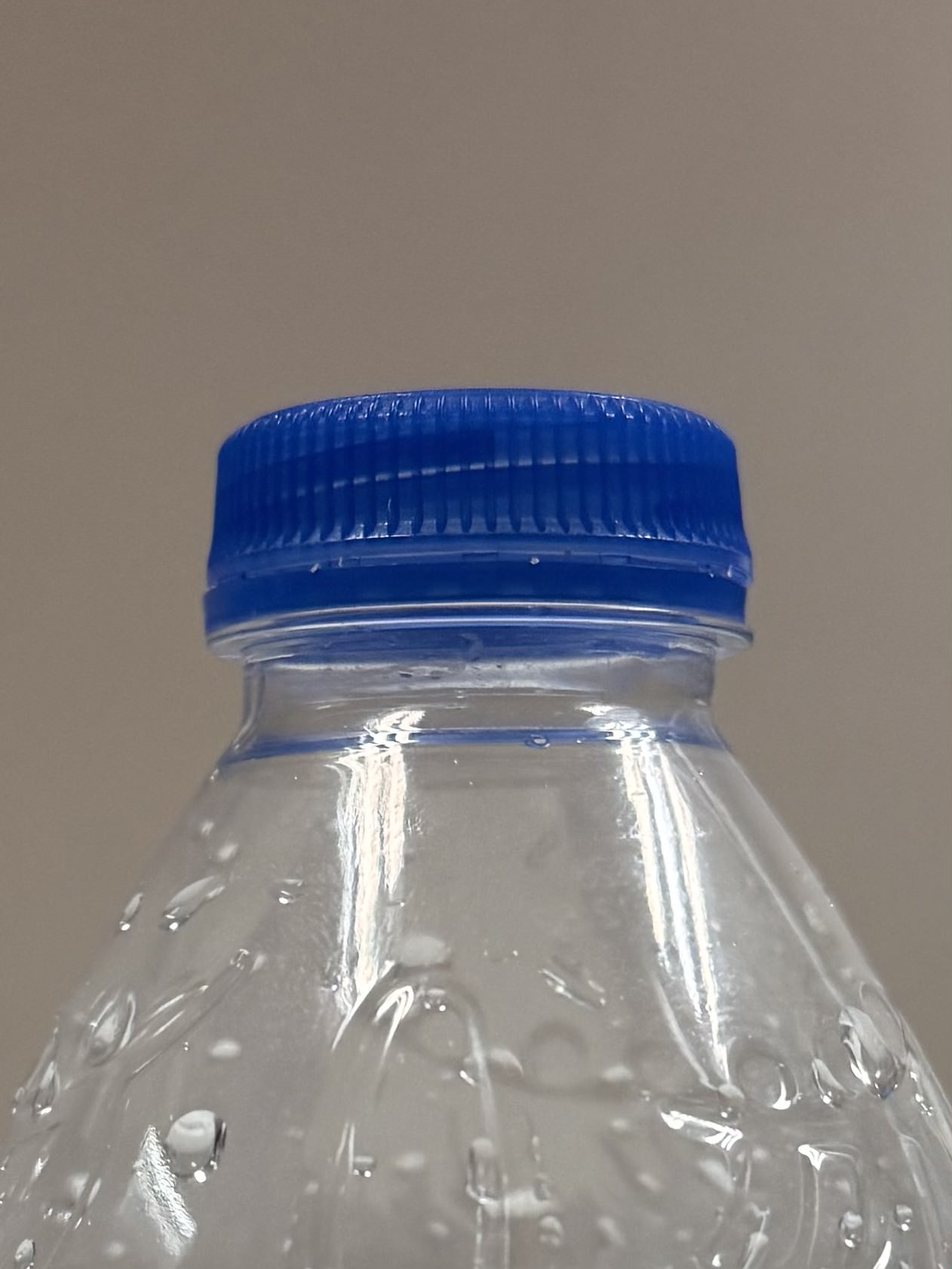closed_cap: (200, 383, 758, 657)
